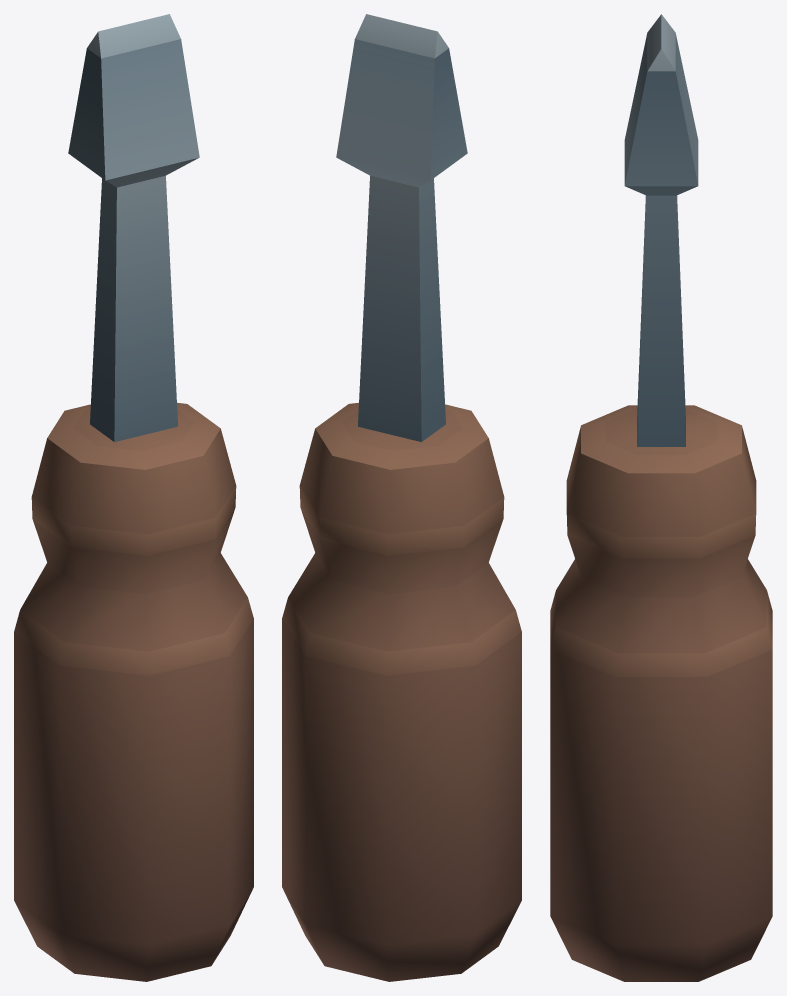
Rendered from screwdriver_A_short.glb.
3 renders of one model, left to right at view 1: azimuth 30°, elevation 25°; view 2: azimuth 150°, elevation 25°; view 3: azimuth 270°, elevation 25°, orthographic.
Parts seen in each view (by area): view 1: screwdriver_A_short; view 2: screwdriver_A_short; view 3: screwdriver_A_short.
Boxes of the visible parts, x1,y1,x2,y2 form: screwdriver_A_short: [14, 14, 253, 981]; screwdriver_A_short: [282, 14, 521, 981]; screwdriver_A_short: [550, 14, 772, 981].
Size of the model in its own units: 0.1513 by 0.7034 by 0.1513.
Materials: 1 (1 with a texture image).
